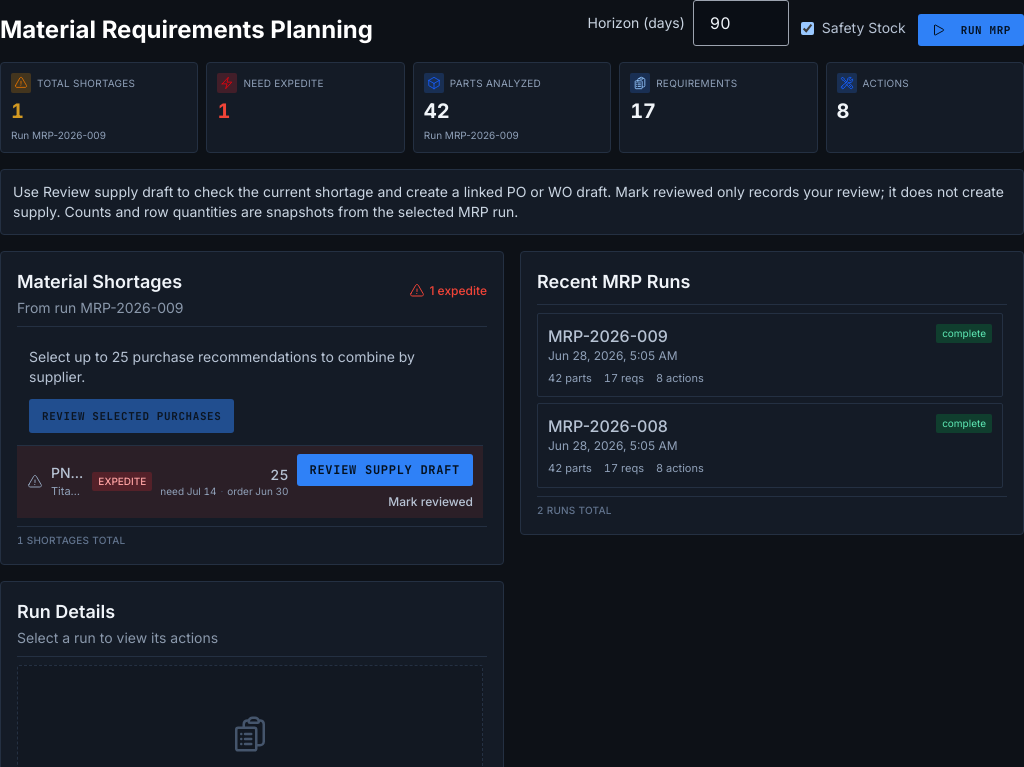
MRP request scope and review semantics › ignores an older run response after a different run is selected
Click the button with aria-label "View MRP run MRP-2026-009" at (608, 336), box [537,312,1003,397]
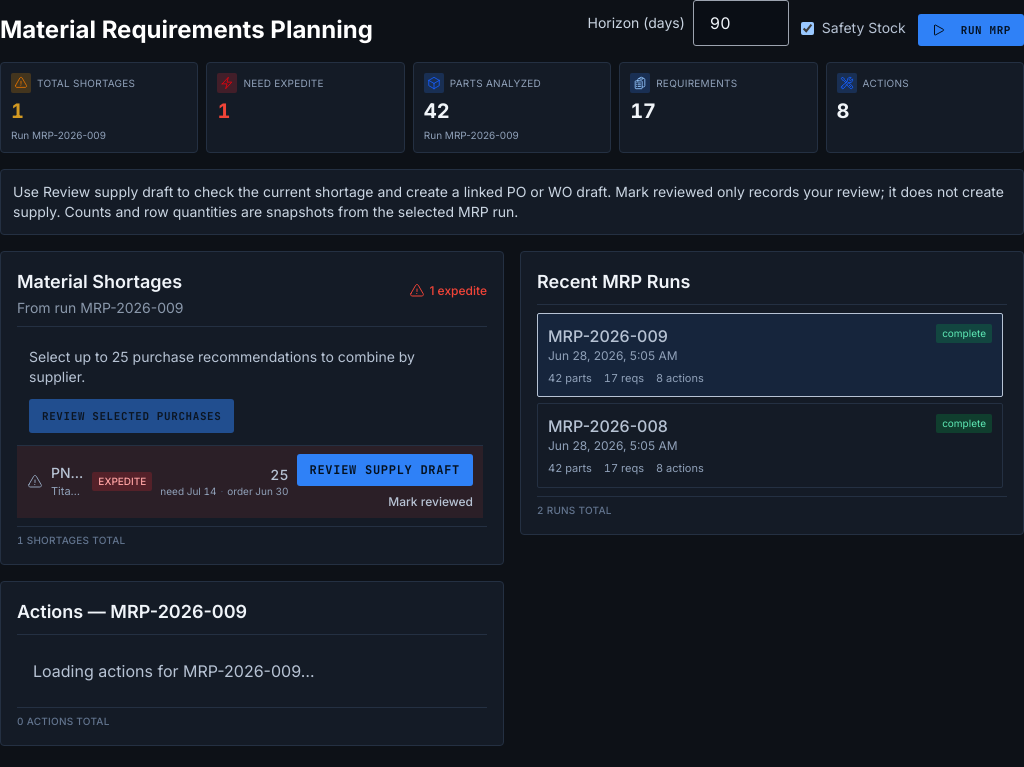
Click the button with aria-label "View MRP run MRP-2026-008" at (608, 426), box [537,403,1003,488]
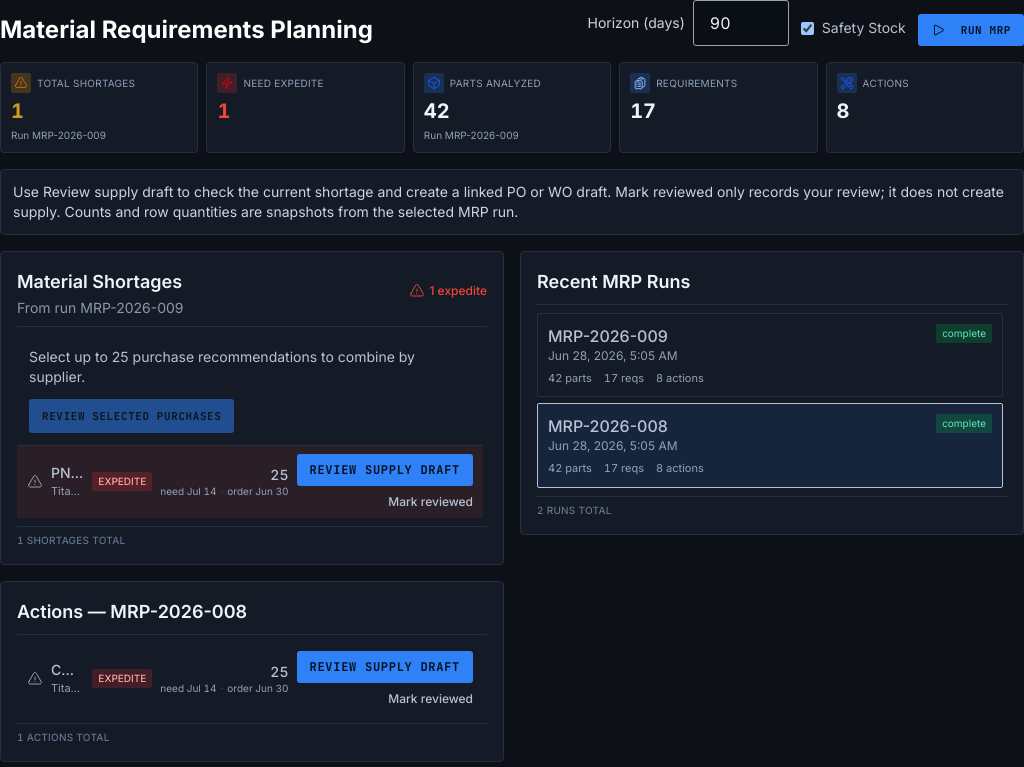
Result: the text "CURRENT-RUN-PART" is shown at [51,660,84,680]
